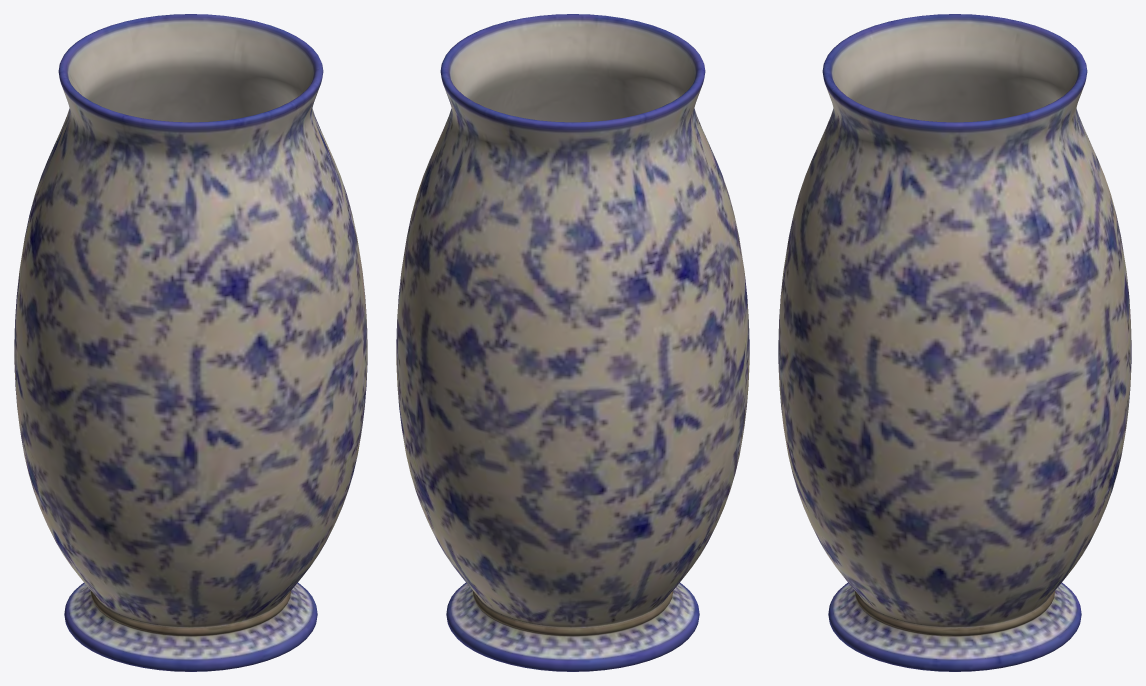
The model's file is antique_ceramic_vase_01.glb.
3 renders of one model, left to right at view 1: azimuth 30°, elevation 25°; view 2: azimuth 150°, elevation 25°; view 3: azimuth 270°, elevation 25°, orthographic.
Visible parts, largest first — view 1: antique_ceramic_vase_01; view 2: antique_ceramic_vase_01; view 3: antique_ceramic_vase_01.
Boxes of the visible parts, left/top/right/bottom form: antique_ceramic_vase_01: left=14, top=14, right=367, bottom=671; antique_ceramic_vase_01: left=396, top=14, right=749, bottom=671; antique_ceramic_vase_01: left=778, top=14, right=1131, bottom=671.
Size of the model in its own units: 0.255 by 0.4396 by 0.255.
Materials: 1 (1 with a texture image).
